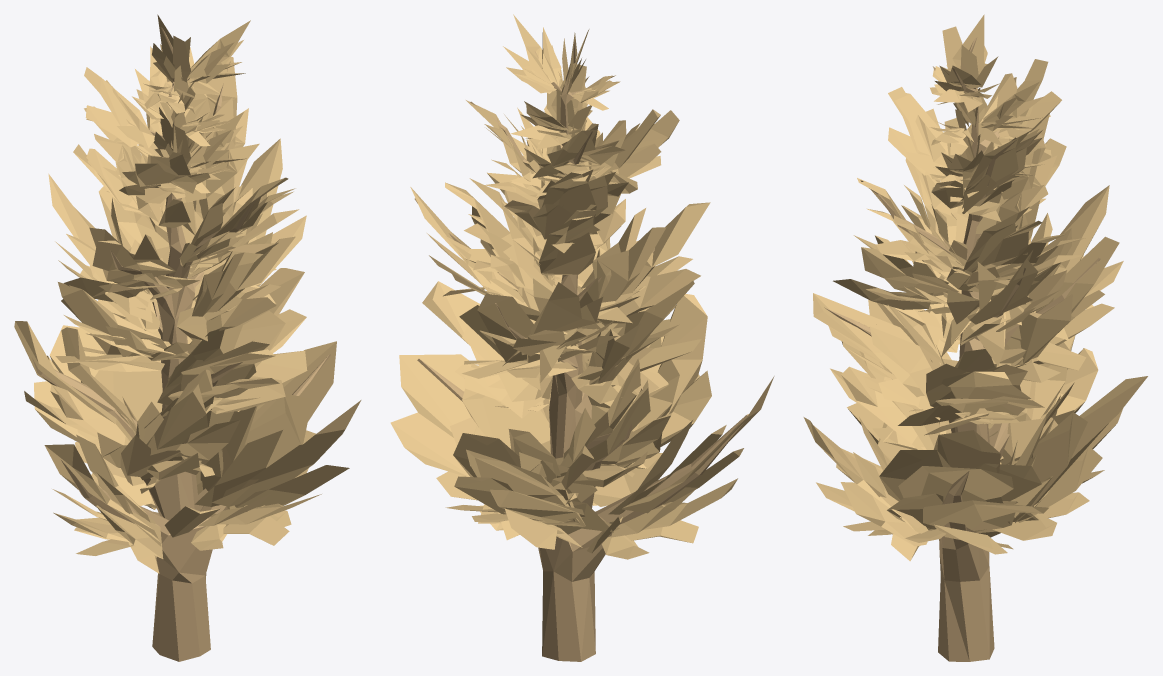
Rendered from DriedtulipA-1.fbx.
3 views of the same model, side by side, from view 1: azimuth 30°, elevation 25°; view 2: azimuth 150°, elevation 25°; view 3: azimuth 270°, elevation 25° (orthographic).
Visible parts, largest first — view 1: leaves.002, trunk.002; view 2: leaves.002, trunk.002; view 3: leaves.002, trunk.002.
Boxes of the visible parts, bbox=[...] form: leaves.002: bbox=[14, 14, 361, 573]; trunk.002: bbox=[32, 27, 330, 661]; leaves.002: bbox=[390, 14, 774, 559]; trunk.002: bbox=[414, 41, 748, 661]; leaves.002: bbox=[803, 14, 1147, 561]; trunk.002: bbox=[824, 37, 1100, 661].
Size of the model in its own units: 432 by 817 by 405.
